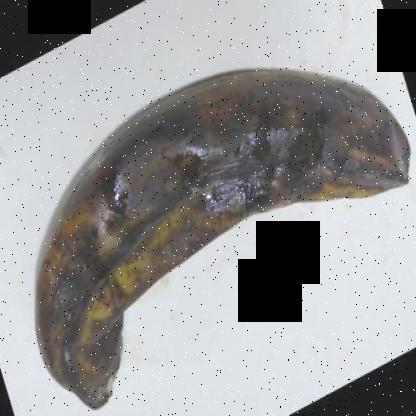rotten: (18, 63, 415, 416)
